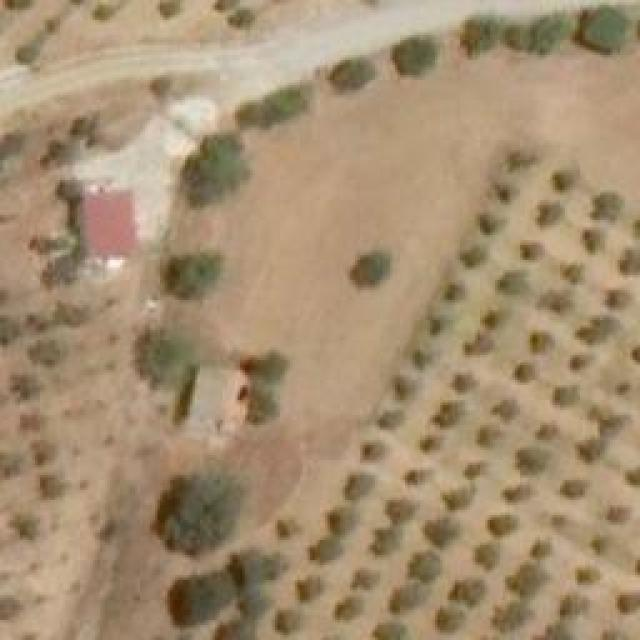Tree: (160, 475, 238, 550), (182, 138, 250, 198), (137, 330, 205, 390), (173, 570, 233, 618), (243, 85, 303, 128), (165, 248, 220, 293), (578, 8, 623, 53), (240, 348, 288, 388), (460, 13, 500, 56), (397, 33, 435, 78), (233, 547, 278, 585), (573, 312, 616, 350), (515, 445, 555, 485), (493, 598, 533, 638), (350, 248, 388, 288), (240, 390, 282, 425), (535, 12, 573, 50), (508, 565, 548, 598), (330, 55, 368, 88), (44, 140, 84, 168), (408, 548, 441, 581), (340, 470, 370, 505), (368, 523, 398, 558), (390, 585, 425, 615), (540, 290, 573, 320), (142, 75, 175, 104), (330, 595, 363, 623), (532, 200, 560, 233), (440, 488, 475, 513), (295, 575, 325, 603), (327, 505, 355, 535), (385, 495, 415, 523), (435, 607, 465, 635), (455, 243, 483, 273), (592, 193, 620, 223), (527, 533, 555, 563), (453, 578, 486, 603), (425, 520, 458, 543), (310, 538, 340, 563), (485, 515, 515, 540), (615, 248, 640, 278), (227, 8, 255, 33), (218, 620, 253, 640), (242, 590, 270, 615), (440, 402, 465, 430), (495, 270, 523, 295), (560, 592, 585, 620), (358, 440, 388, 463), (605, 288, 635, 311), (10, 518, 40, 541), (537, 622, 575, 640), (280, 607, 303, 635), (465, 335, 493, 358), (490, 400, 518, 423), (590, 533, 618, 556), (30, 343, 58, 366), (7, 375, 35, 398), (475, 545, 500, 570), (578, 228, 603, 253), (560, 475, 585, 500), (28, 438, 53, 463), (505, 20, 525, 50), (373, 410, 406, 428), (443, 280, 466, 305), (478, 308, 503, 331), (508, 150, 531, 175), (530, 330, 553, 355), (598, 413, 623, 436), (605, 503, 630, 526), (617, 590, 640, 615), (350, 568, 378, 588), (552, 385, 580, 405), (532, 423, 560, 443), (502, 485, 530, 505), (393, 375, 416, 398), (553, 170, 576, 193), (520, 240, 543, 263), (568, 350, 591, 373), (460, 460, 488, 478), (378, 620, 403, 640), (510, 363, 535, 383), (0, 318, 20, 343), (450, 373, 470, 396), (478, 215, 498, 238), (493, 183, 516, 203), (578, 438, 601, 458), (620, 465, 640, 488), (578, 565, 598, 588), (0, 455, 20, 478), (0, 595, 18, 620), (477, 428, 495, 451), (93, 3, 113, 23), (15, 45, 35, 65), (40, 475, 60, 495), (418, 437, 438, 455), (563, 262, 583, 280), (210, 0, 233, 15), (275, 520, 298, 535), (430, 313, 445, 336), (160, 0, 178, 18), (553, 510, 568, 530), (405, 470, 423, 485), (410, 350, 425, 368), (22, 413, 40, 428)
